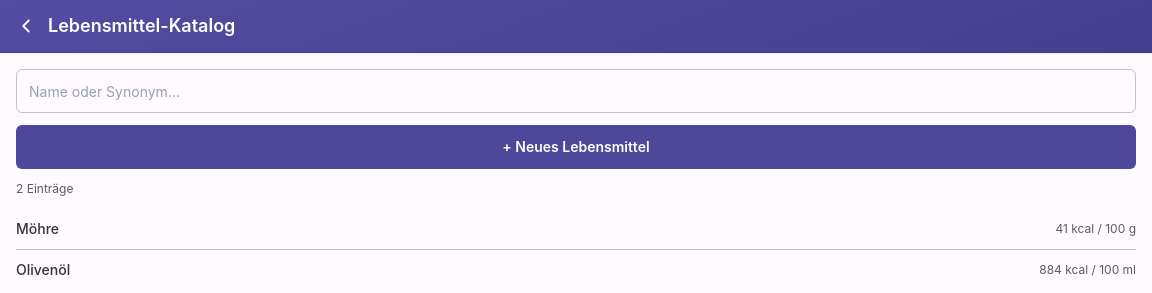
Scenario: CatalogManagerScreen — list › filters by canonical name
expect the text "Möhre" is shown: met, box 16,220 -> 59,237
Type "oliven" into the search field at (576,91), box 16,69 -> 1136,113
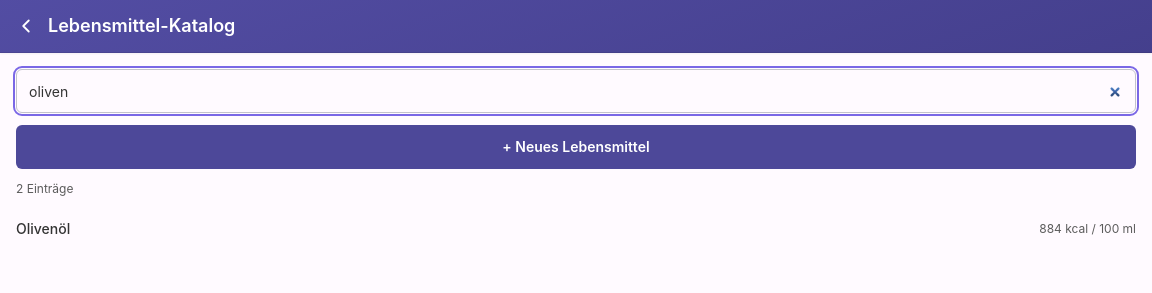
expect the text "Olivenöl" is shown: met, box 16,220 -> 70,237
expect the button "Möhre" is gone: met
